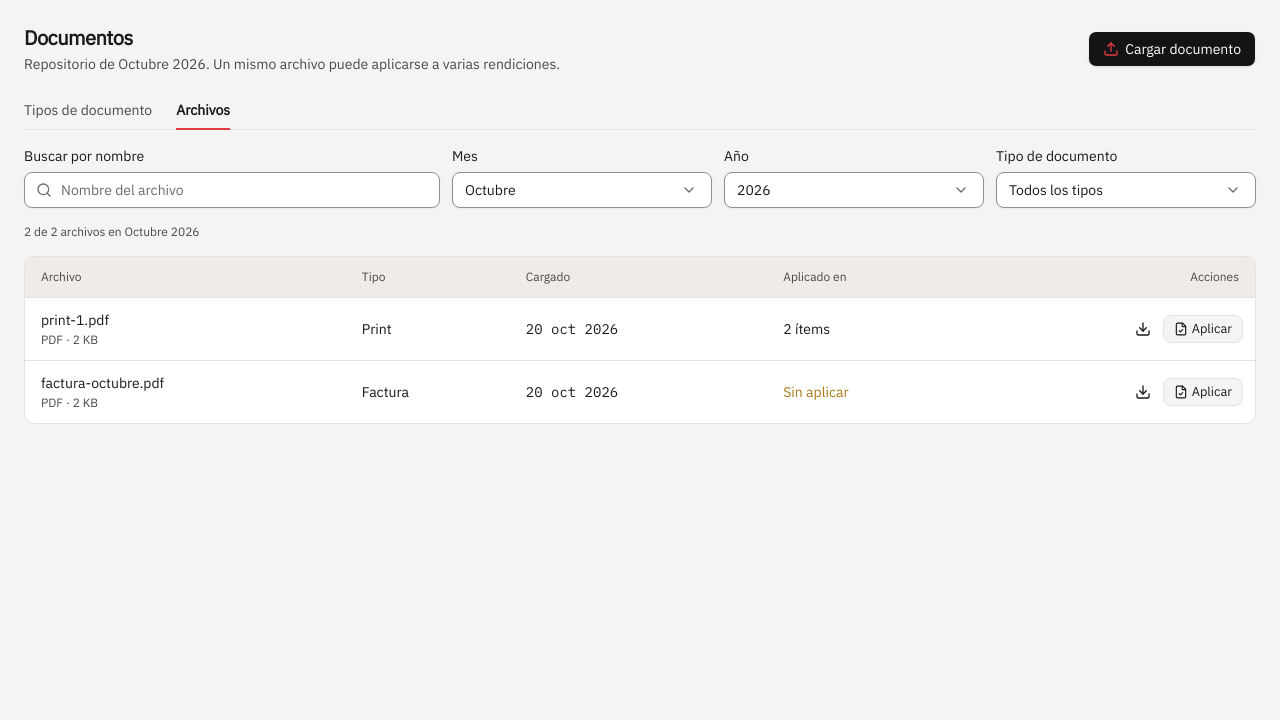
Scenario: ArchivosPage: detalle de un documento › muestra dónde está vigente y el historial, con rendiciones anuladas y clientes inactivos
The width and height of the screenshot is (1280, 720).
Click the button "print-1.pdf" at (75, 320), box left=41, top=310, right=109, bottom=330
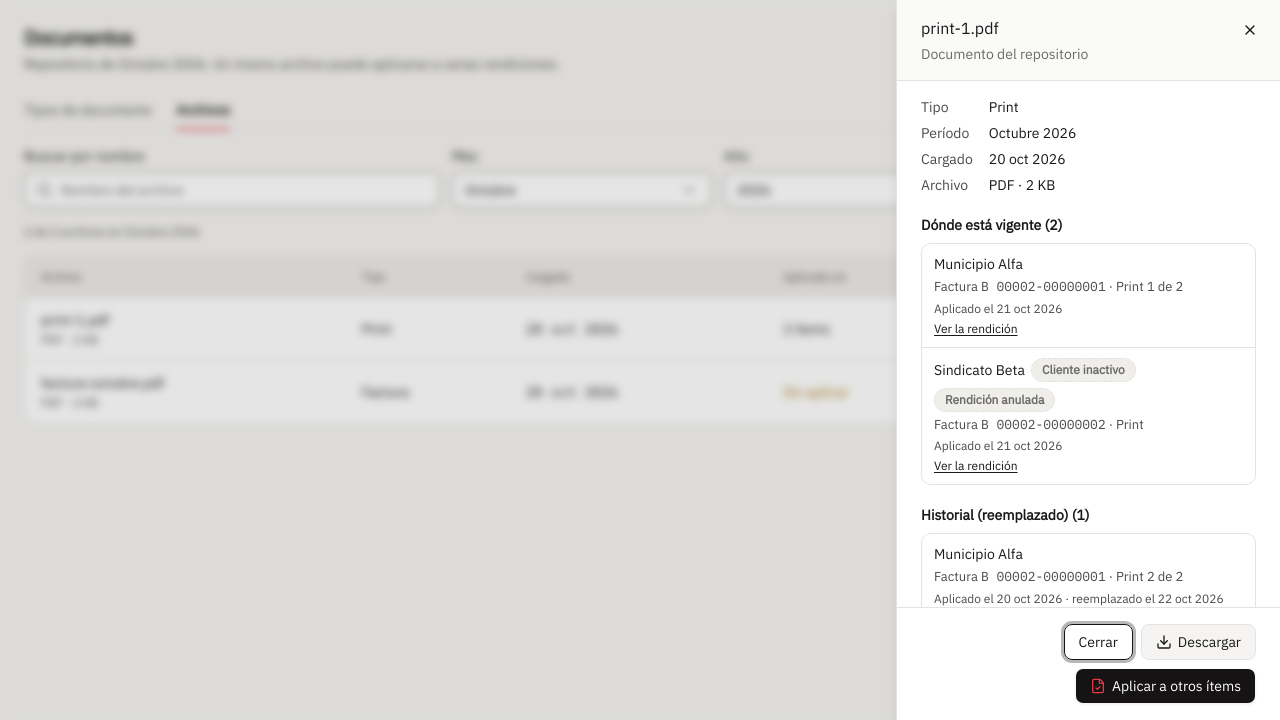
Result: the text "Rendición anulada" is shown at left=934, top=388, right=1055, bottom=412
Result: the text "Cliente inactivo" is shown at left=1031, top=358, right=1136, bottom=382
Result: the text "Aplicado el 20 oct 2026 · reemplazado el 22 oct 2026" is shown at left=934, top=591, right=1243, bottom=607
